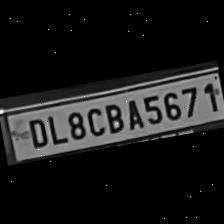1: (197, 77, 222, 113)
5: (136, 90, 163, 125)
6: (159, 86, 182, 121)
7: (177, 82, 201, 117)
8: (61, 104, 88, 140)
A: (119, 93, 143, 130)
B: (99, 97, 124, 133)
C: (82, 100, 106, 138)
D: (22, 113, 50, 148)
L: (43, 108, 66, 144)
